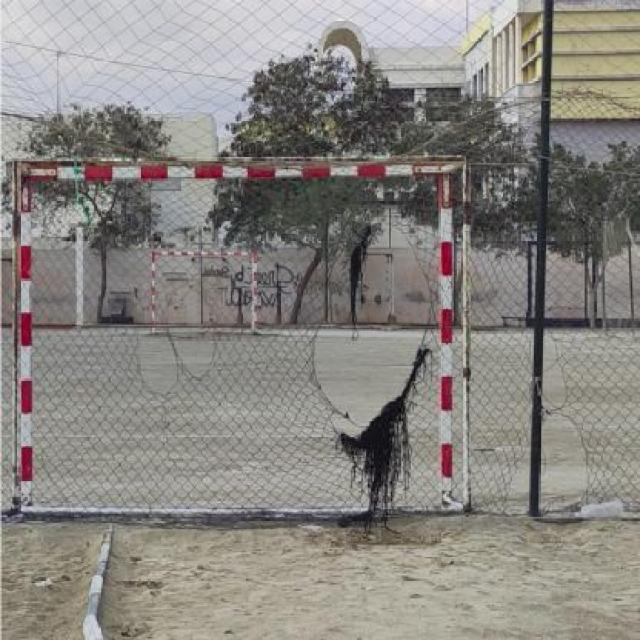fence line: (310, 215, 432, 439), (135, 292, 216, 393), (510, 424, 593, 519), (522, 320, 573, 405)
